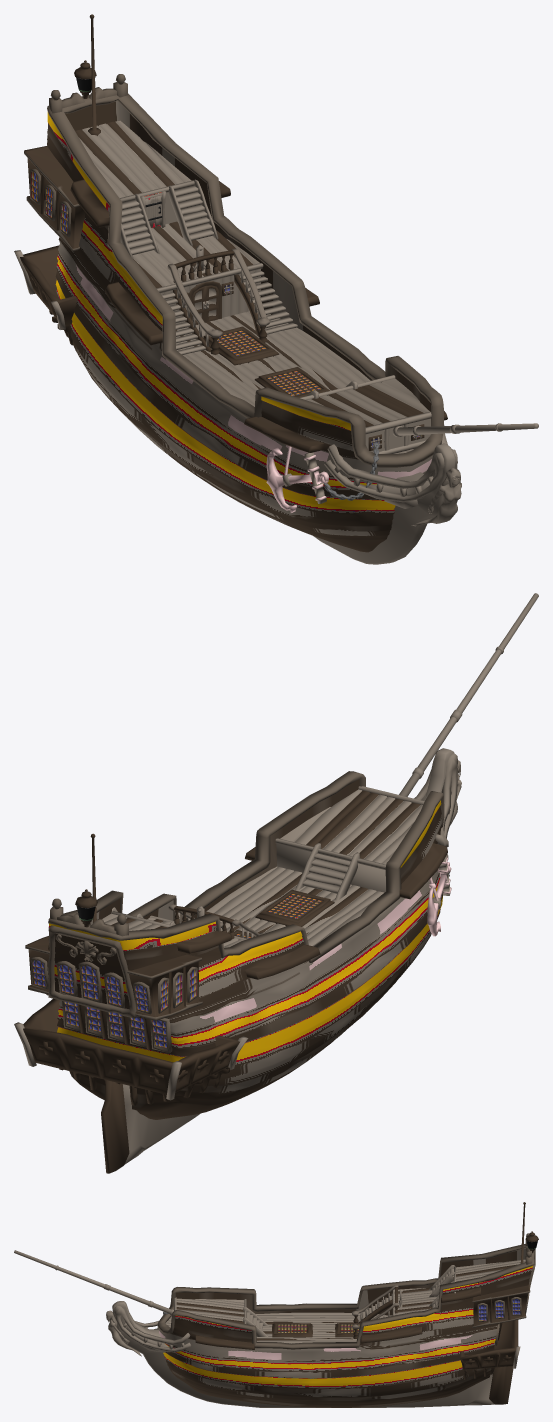
File: SM_Veh_Boat_Warship_01_Hull_Pirate_Bare.glb
3 views of the same model, one above another, from view 1: azimuth 30°, elevation 25°; view 2: azimuth 150°, elevation 25°; view 3: azimuth 270°, elevation 25° (orthographic). The views are drawn at different scales.
Visible parts, largest first — view 1: SM_Veh_Boat_Warship_01_Hull_Pirate_Bare_00; view 2: SM_Veh_Boat_Warship_01_Hull_Pirate_Bare_00; view 3: SM_Veh_Boat_Warship_01_Hull_Pirate_Bare_00.
Part boxes in pixels (<box>): SM_Veh_Boat_Warship_01_Hull_Pirate_Bare_00: <box>14,14,538,564</box>; SM_Veh_Boat_Warship_01_Hull_Pirate_Bare_00: <box>14,593,538,1173</box>; SM_Veh_Boat_Warship_01_Hull_Pirate_Bare_00: <box>14,1202,538,1407</box>.
Bounding box in the file's own units: 9.57 × 17.15 × 39.75.
1 material, 1 textured.
